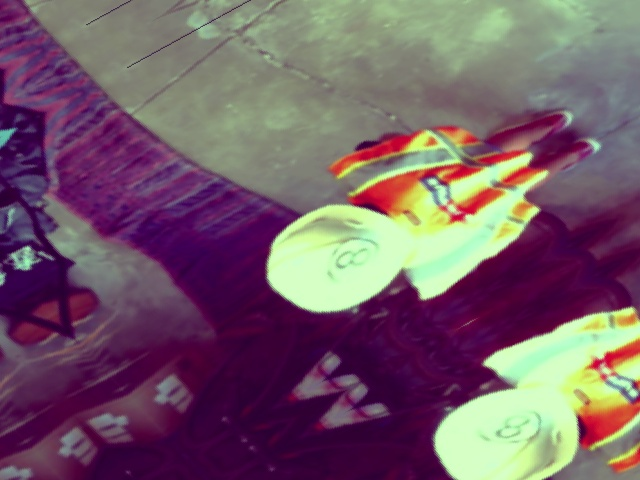eight: (315, 230, 387, 293)
